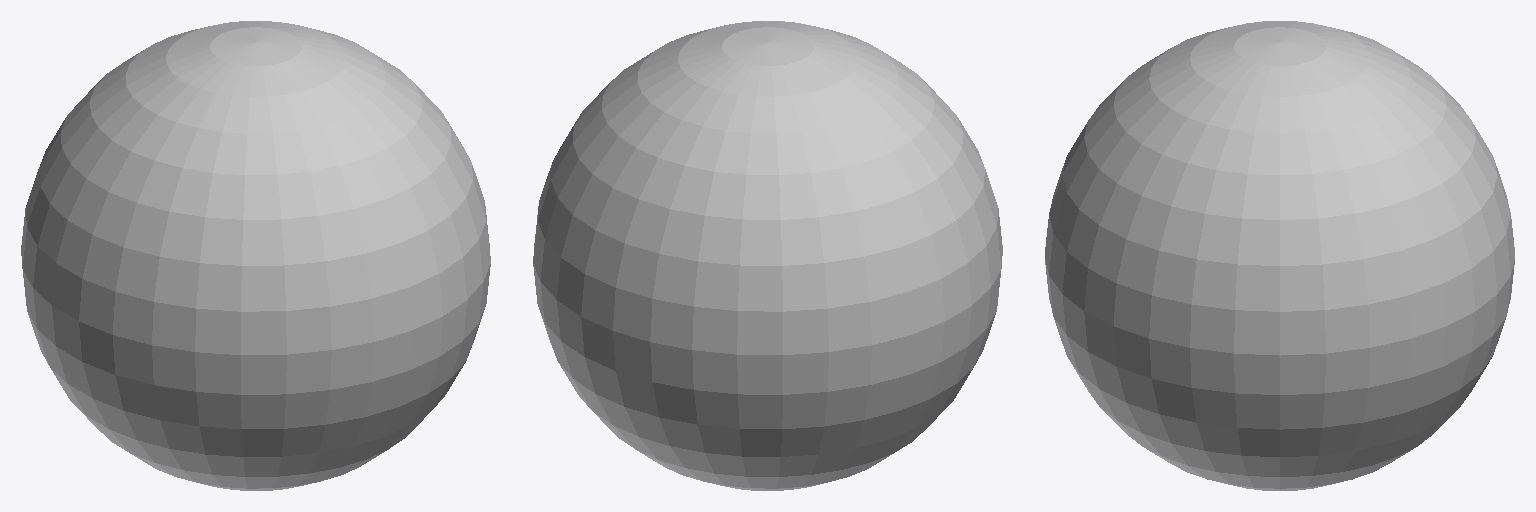
File: Sun.obj
3 renders of one model, left to right at view 1: azimuth 30°, elevation 25°; view 2: azimuth 150°, elevation 25°; view 3: azimuth 270°, elevation 25°, orthographic.
Parts seen in each view (by area): view 1: Sphere; view 2: Sphere; view 3: Sphere.
Part boxes in pixels (x1,y1,x2,y2): Sphere: (21, 21, 490, 490); Sphere: (533, 21, 1002, 490); Sphere: (1045, 21, 1514, 490).
Size of the model in its own units: 2 by 2 by 2.